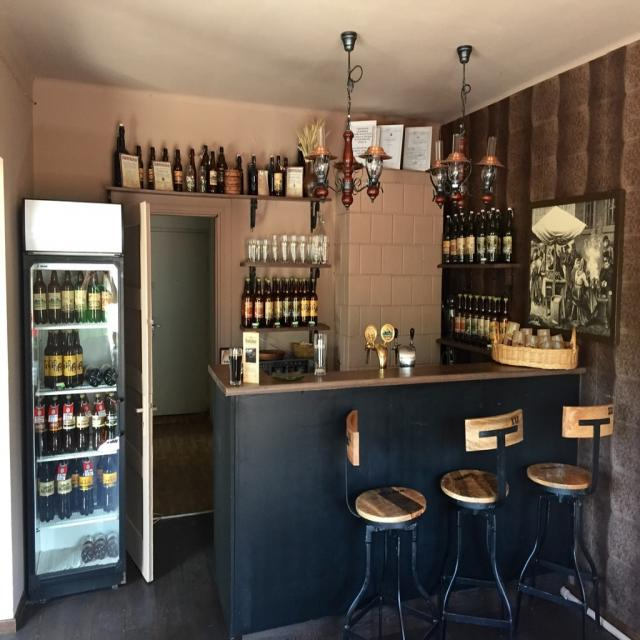Lamppost: (420, 64, 518, 228), (298, 60, 396, 211)
a glass: (306, 327, 332, 383), (227, 344, 250, 394)
chair: (437, 412, 527, 621), (536, 409, 624, 622), (343, 414, 428, 622)
door: (129, 202, 223, 526)
refrigerator: (21, 206, 126, 594)
table: (214, 325, 600, 454)
